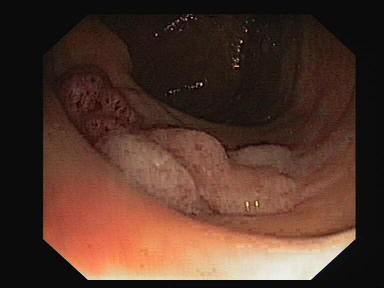polyp: (51, 54, 311, 233)
